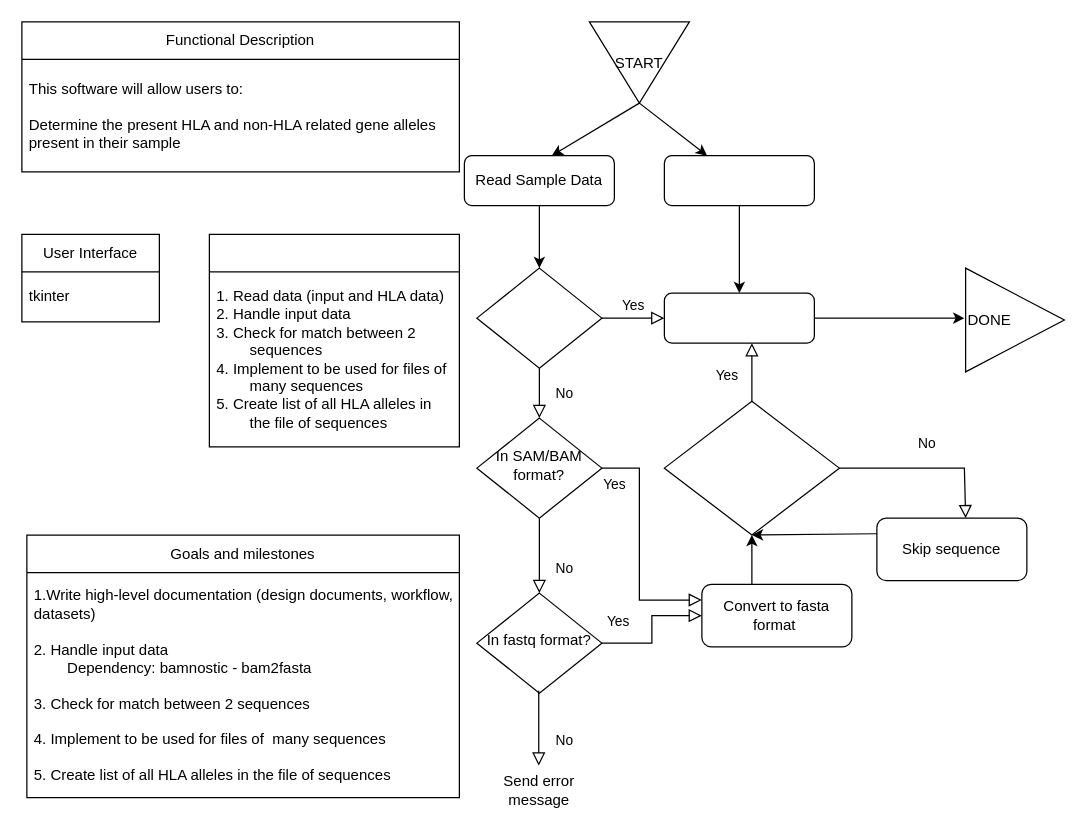
Some shapes in this 1086 by 831 pixel diagram are drawn without their labels. Each missing label, with the box of its shape:
Each sequence is a HLA or related non-HLA gene?: (663, 400, 839, 535)
In fasta format?: (476, 267, 602, 368)
Match with HLA Alleles: (663, 292, 814, 343)
Prioritization: (208, 233, 459, 447)
Read HLA Allele Data fasta format: (663, 154, 814, 206)
